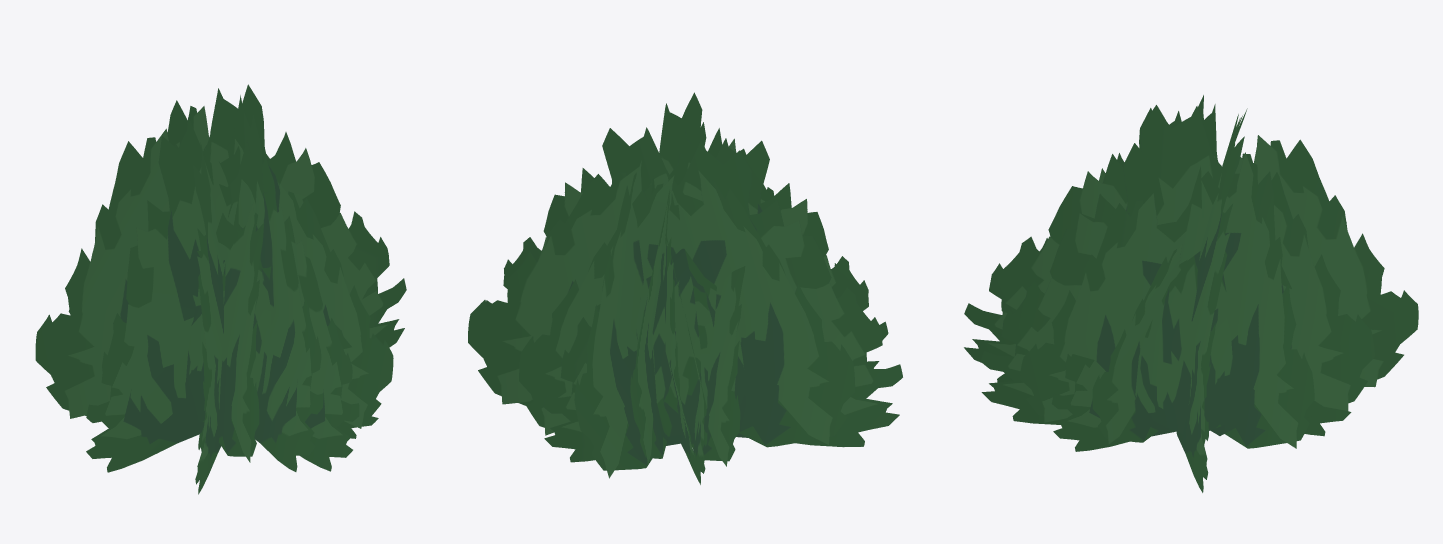
Rendered from SM_Env_Shrub_01.fbx.
3 renders of one model, left to right at view 1: azimuth 30°, elevation 25°; view 2: azimuth 150°, elevation 25°; view 3: azimuth 270°, elevation 25°, orthographic. The views are drawn at different scales.
Visible parts, largest first — view 1: SM_Env_Shrub_01_LOD0; view 2: SM_Env_Shrub_01_LOD0; view 3: SM_Env_Shrub_01_LOD0.
Part boxes in pixels (<box>): SM_Env_Shrub_01_LOD0: <box>35,84,406,494</box>; SM_Env_Shrub_01_LOD0: <box>468,92,902,484</box>; SM_Env_Shrub_01_LOD0: <box>964,95,1418,492</box>.
Size of what is drawn, in the model's own units: 163 by 141 by 166.
